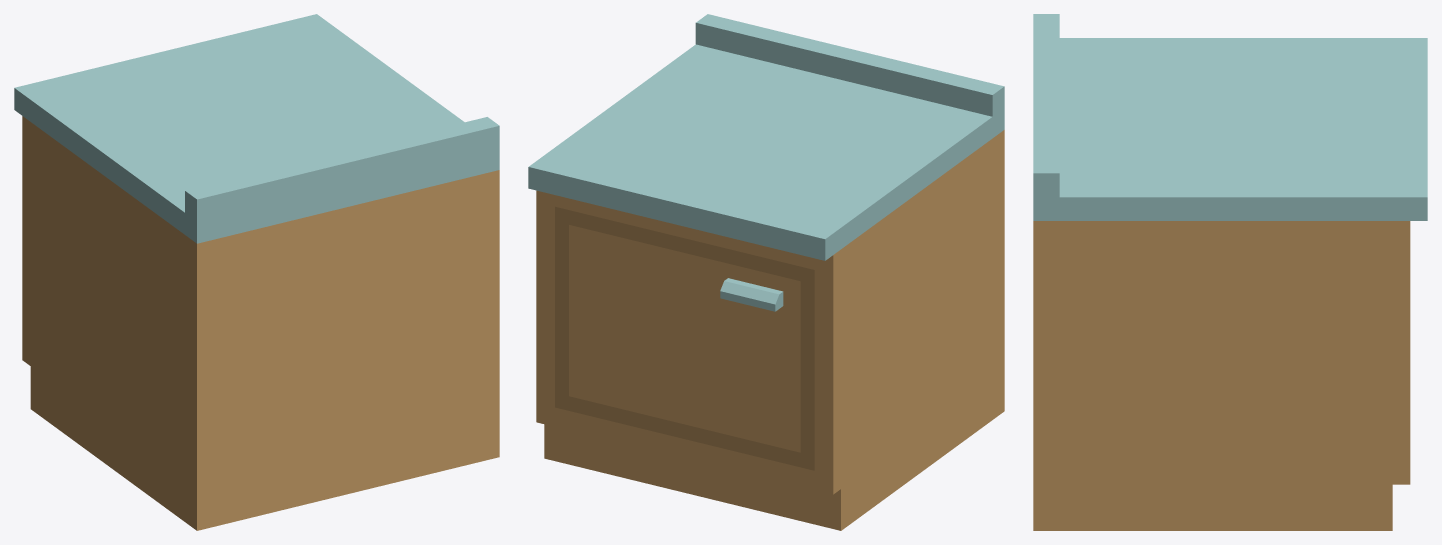
Rendered from kitchenCabinet.glb.
The picture shows the model from 3 angles, left to right: view 1: azimuth 30°, elevation 25°; view 2: azimuth 150°, elevation 25°; view 3: azimuth 270°, elevation 25°; orthographic projection. The views are drawn at different scales.
Size of the model in its own units: 4.3 by 4.5 by 4.5.
